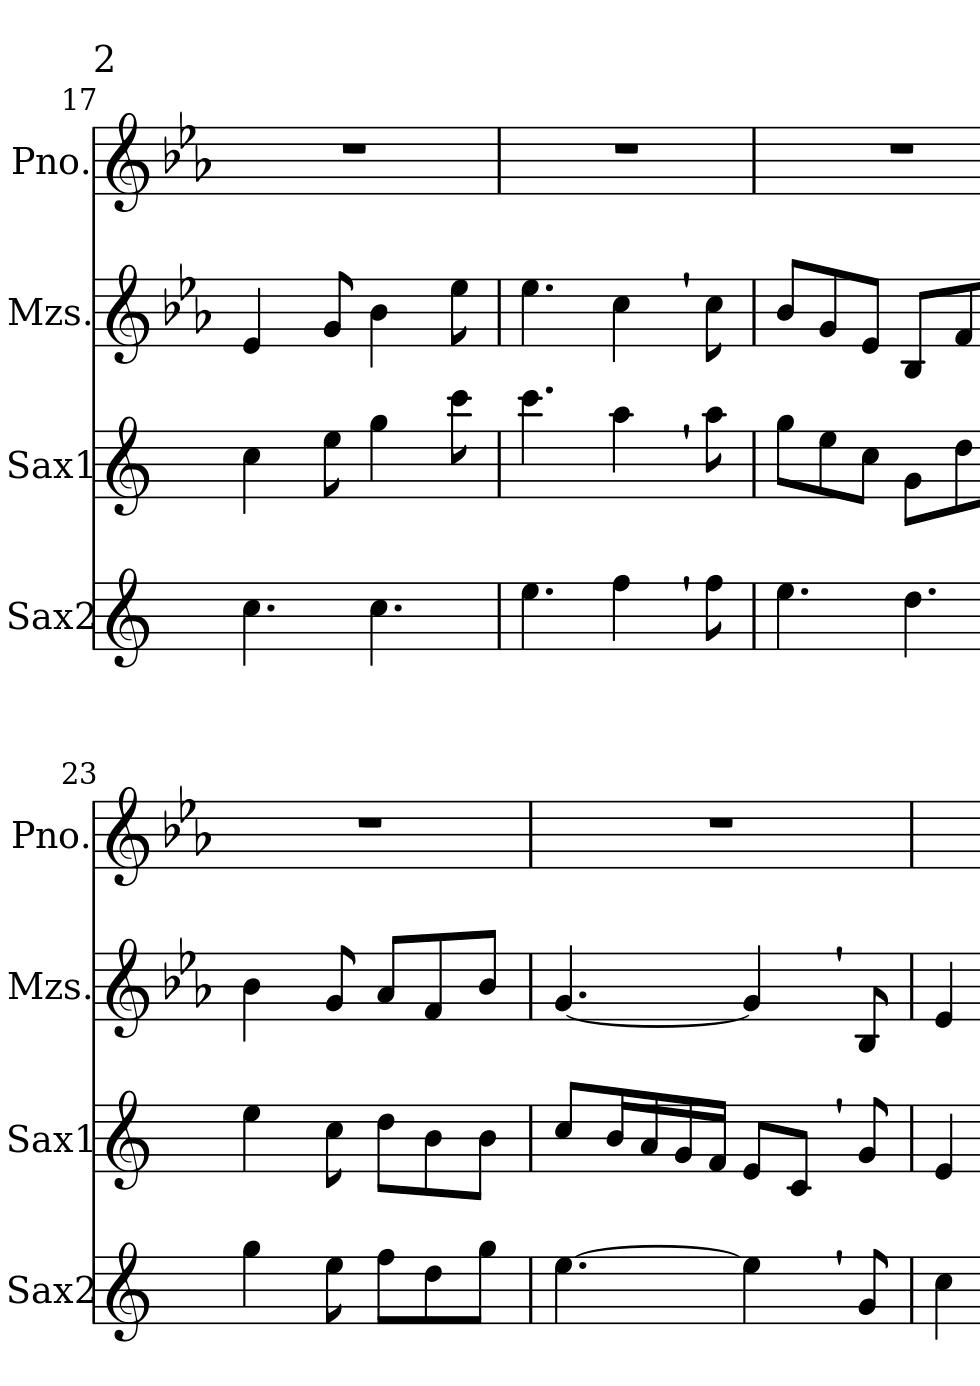1: (62, 86, 77, 115)
16_1: (706, 1096, 727, 1175)
16_2: (672, 1094, 694, 1173)
16_3: (638, 1090, 660, 1174)
16_4: (603, 1086, 631, 1174)
2: (92, 43, 113, 73), (60, 761, 78, 787)
3: (78, 760, 97, 787)
4_0: (240, 277, 263, 356), (931, 1102, 953, 1181), (932, 950, 953, 1030)
4_10: (608, 405, 633, 501)
4_12: (517, 389, 545, 501)
4_2: (552, 943, 574, 1022), (741, 942, 762, 1022)
4_4: (240, 950, 262, 1043), (367, 277, 388, 370)
4_5: (608, 277, 632, 366), (366, 580, 389, 669), (239, 429, 262, 516), (240, 581, 261, 669), (932, 1255, 953, 1343)
4_6: (902, 581, 922, 660)
4_7: (518, 580, 542, 652), (240, 1103, 264, 1174), (773, 580, 797, 651), (518, 277, 540, 349), (552, 1255, 574, 1326), (740, 1255, 762, 1324)
4_8: (608, 573, 632, 653)
4_9: (366, 413, 389, 499), (239, 1238, 261, 1324)
7: (78, 85, 97, 115)
8_-2: (785, 1103, 810, 1197)
8_-3: (855, 951, 888, 1054), (900, 277, 928, 380)
8_0: (740, 1103, 768, 1183), (858, 273, 882, 356)
8_1: (421, 932, 445, 1023), (951, 277, 973, 348)
8_10: (701, 406, 725, 501)
8_12: (447, 388, 473, 501)
8_2: (323, 943, 355, 1021), (321, 269, 352, 347), (900, 428, 924, 528), (857, 1095, 886, 1174), (856, 1247, 885, 1326), (816, 266, 838, 349)
8_3: (374, 934, 404, 1023)
8_4: (466, 1102, 498, 1203), (774, 257, 803, 349), (421, 1102, 443, 1199), (477, 928, 498, 1022)
8_5: (552, 1078, 581, 1174), (854, 429, 880, 506), (321, 1102, 344, 1189), (703, 277, 723, 364)
8_6: (950, 429, 973, 516), (375, 1102, 396, 1195), (422, 1255, 442, 1326)
8_7: (815, 429, 837, 501), (448, 278, 470, 348), (321, 429, 343, 501), (323, 1256, 345, 1327)
8_8: (701, 573, 723, 652), (374, 1248, 395, 1326)
8_9: (463, 1239, 496, 1327), (774, 414, 795, 501)
E_F: (161, 785, 213, 857), (162, 110, 212, 183), (162, 935, 212, 1008), (163, 262, 212, 335)
Gclef: (104, 413, 153, 519), (104, 784, 152, 891), (104, 262, 152, 368), (104, 111, 152, 216), (104, 936, 152, 1041), (104, 1088, 151, 1192), (105, 566, 151, 671), (105, 1240, 150, 1344)
Pno: (8, 143, 81, 181), (10, 817, 81, 854)
Rests1: (353, 813, 386, 831), (338, 139, 370, 157), (704, 813, 736, 831), (610, 139, 642, 156), (886, 139, 917, 156)
Sax: (2, 445, 77, 489), (3, 1118, 76, 1161), (3, 596, 76, 637), (3, 1270, 77, 1310)
Single_barline: (88, 1105, 105, 1174), (903, 1257, 920, 1323), (522, 954, 539, 1020), (522, 1106, 539, 1172), (522, 1258, 539, 1323), (89, 431, 105, 501), (490, 432, 507, 496), (491, 584, 508, 649), (522, 802, 538, 869), (746, 128, 762, 194), (491, 128, 507, 193), (746, 279, 762, 344), (746, 584, 762, 649), (87, 127, 102, 196), (90, 582, 105, 651), (87, 801, 102, 870), (491, 280, 507, 344), (903, 1106, 918, 1170), (89, 1257, 104, 1324), (746, 431, 760, 497), (904, 802, 918, 867), (88, 953, 102, 1022), (904, 954, 918, 1018), (88, 279, 102, 347)
Slur: (567, 1012, 750, 1028), (577, 1243, 740, 1256)
dot: (924, 584, 939, 600), (262, 600, 277, 616), (541, 280, 555, 295), (797, 585, 810, 599), (390, 601, 404, 615), (575, 988, 588, 1003), (542, 384, 555, 398), (542, 584, 555, 598), (575, 1260, 588, 1273)
